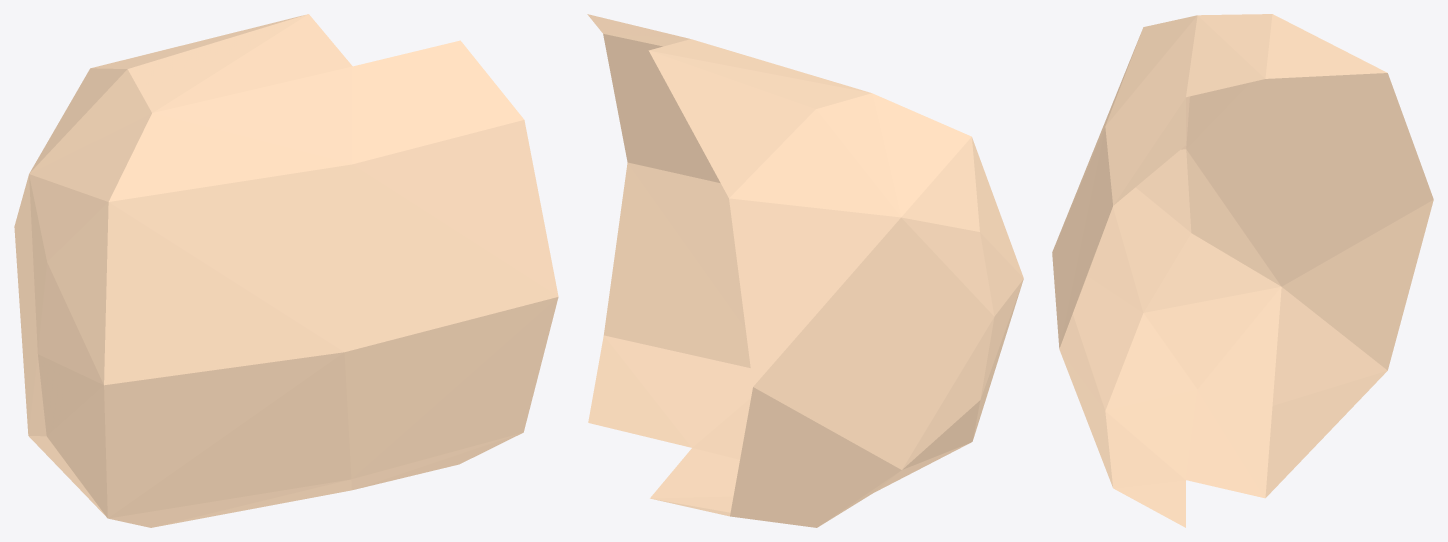
The model's file is head8.glb.
The picture shows the model from 3 angles, left to right: view 1: azimuth 30°, elevation 25°; view 2: azimuth 150°, elevation 25°; view 3: azimuth 270°, elevation 25°; orthographic projection. The views are drawn at different scales.
Visible parts, largest first — view 1: tomodachi-2026-03-06-18-14-33-427.007; view 2: tomodachi-2026-03-06-18-14-33-427.007; view 3: tomodachi-2026-03-06-18-14-33-427.007.
Boxes of the visible parts, <box> form: tomodachi-2026-03-06-18-14-33-427.007: <box>14,14,558,527</box>; tomodachi-2026-03-06-18-14-33-427.007: <box>587,14,1023,527</box>; tomodachi-2026-03-06-18-14-33-427.007: <box>1052,14,1433,527</box>.
Bounding box in the file's own units: 1.06 × 1.04 × 0.8567.
Materials: 1 (1 with a texture image).
